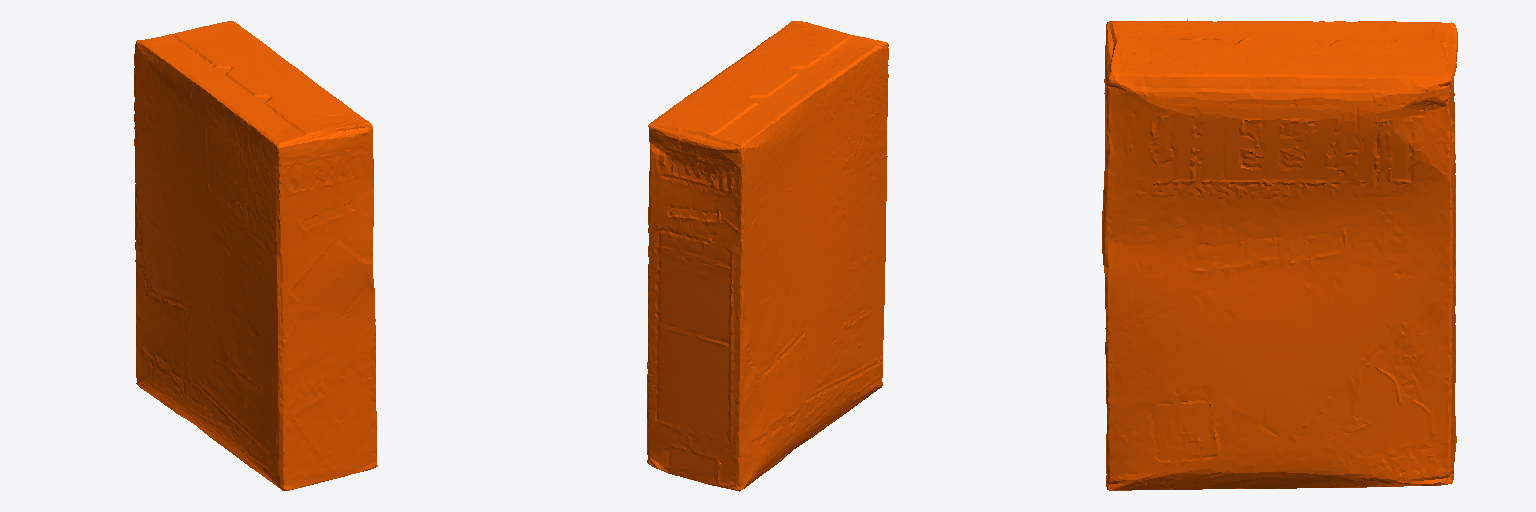
The robot description file, URDF, robot "003_cracker_box":
<?xml version="1.0" ?>
<robot name="003_cracker_box">
   <material name="obj_color">
      <color rgba="1.0 0.423529411765 0.0392156862745 1.0"/>
   </material>
   <link name="top">
      <inertial>
         <origin rpy="0.01035677196011105 0.01743463944098832 0.0248288188769037" xyz="-0.002425427821544314 -0.002418594469698023 -0.006043397085674715"/>
         <mass value="4.259643691510649"/>
         <inertia ixx="0.02482708136668001" ixy="-5.176550279343802e-06" ixz="0.0001584325743681167" iyy="0.01743419000686509" iyz="5.652154915091515e-05" izz="0.01035895890445797"/>
      </inertial>
      <visual>
         <origin rpy="0 0 0" xyz="0 0 0"/>
         <geometry>
            <mesh filename="top_watertight_tiny.stl" scale="1 1 1"/>
         </geometry>
         <material name="obj_color"/>
      </visual>
      <collision>
         <origin rpy="0 0 0" xyz="0 0 0"/>
         <geometry>
            <mesh filename="top_watertight_tiny.obj" scale="1 1 1"/>
         </geometry>
      </collision>
   </link>
   <link name="bottom">
      <inertial>
         <origin rpy="1.633333333199431e-08 1.633333333199431e-08 1.633333333362855e-08" xyz="0.3464080000000008 0.3464080000000008 0.3464080000000008"/>
         <mass value="0.0009800000000000017"/>
         <inertia ixx="1.633333333253906e-08" ixy="5.447480642029219e-19" ixz="5.447480642029219e-19" iyy="1.633333333253906e-08" iyz="5.447480642029219e-19" izz="1.633333333253906e-08"/>
      </inertial>
      <visual>
         <origin rpy="0 0 0" xyz="0 0 0"/>
         <geometry>
            <mesh filename="bottom_watertight_tiny.stl" scale="1 1 1"/>
         </geometry>
         <material name="obj_color"/>
      </visual>
   </link>
   <joint name="rotation" type="revolute">
      <origin xyz="0 0 0"/>
      <axis xyz="0 0 -1"/>
      <parent link="bottom"/>
      <child link="top"/>
      <dynamics damping="1.0" friction="1.0"/>
      <limit effort="0.1" velocity="0.1" lower="0" upper="0.001"/>
   </joint>
</robot>

--- Render facts (derived) ---
Views: 3 orthographic renders of the robot side by side, from view 1: azimuth 30°, elevation 25°; view 2: azimuth 150°, elevation 25°; view 3: azimuth 270°, elevation 25°.
Robot: 003_cracker_box — 2 links, 1 joints (1 revolute); root link bottom; default pose: all joints at 0.
Visible links, largest first — view 1: top; view 2: top; view 3: top.
Link boxes in pixels (<box>): top: <box>134,21,377,490</box>; top: <box>647,21,888,491</box>; top: <box>1102,20,1457,490</box>.
Bounding box of the posed robot: 0.0718 × 0.164 × 0.2134 m (x, y, z).
Meshes: 2 distinct files referenced, 1 mesh visuals loaded (1 binary STL); not drawn: 1 (reference not matched to a file when rendering).
